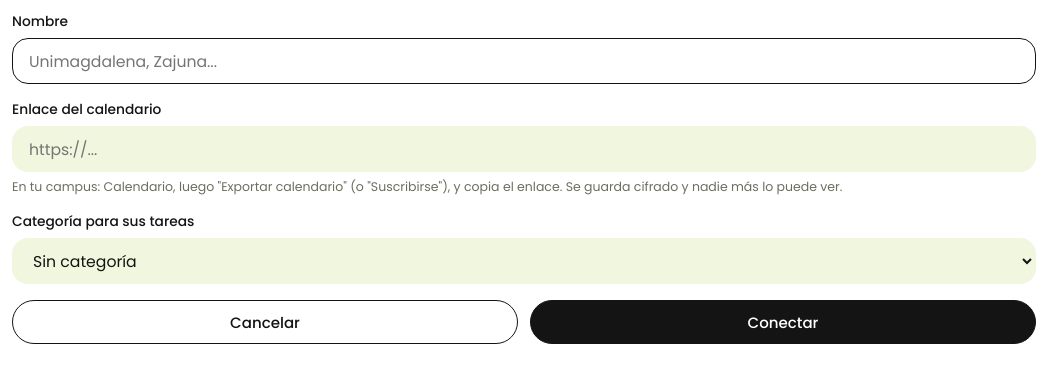
Test: CampusForm › muestra el error del servidor junto al enlace
The width and height of the screenshot is (1048, 387).
In the field labelled "Nombre": (524, 61) [12, 38, 1036, 84], type "Zajuna"
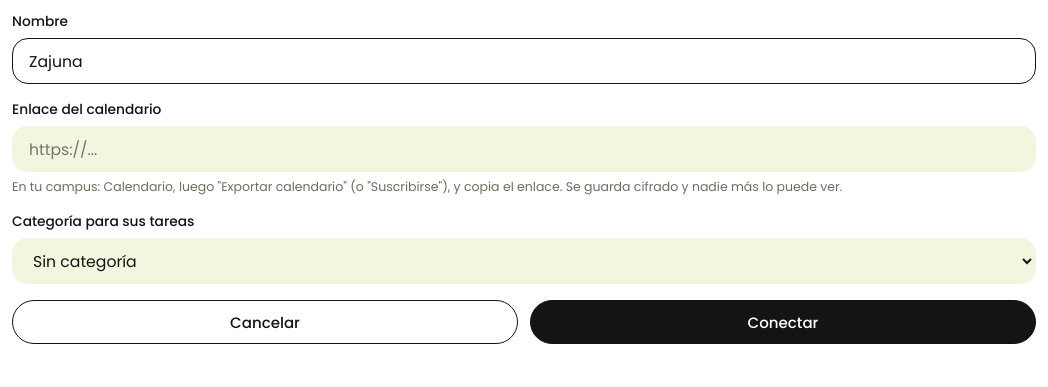
In the password field labelled "Enlace del calendario": (524, 149) [12, 126, 1036, 172], type "https://zajuna.co/x"
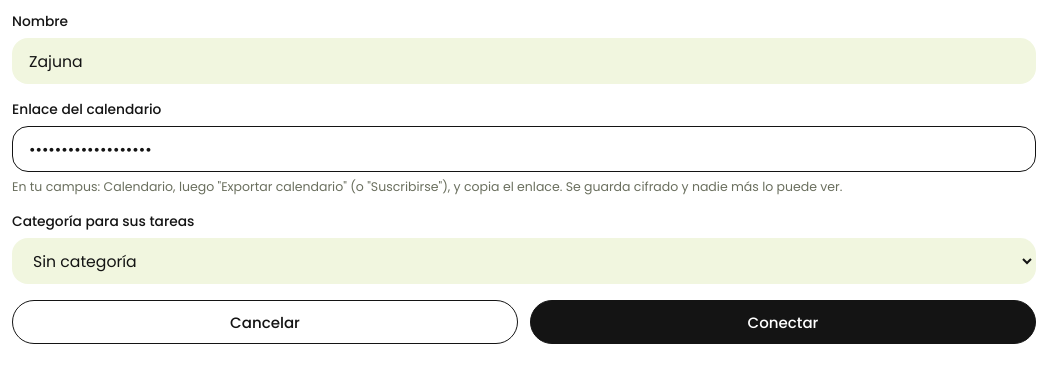
Click the button "Conectar": (783, 322) [530, 300, 1036, 344]
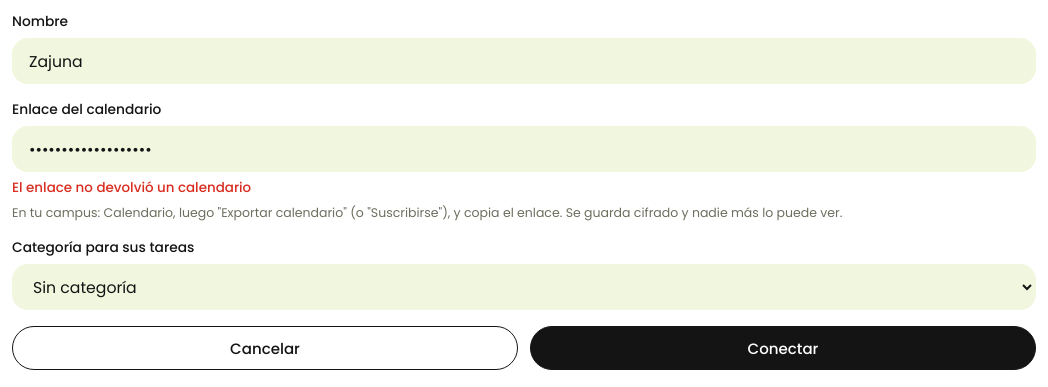
Now the text "El enlace no devolvió un calendario" is shown, box [12, 178, 251, 197]
